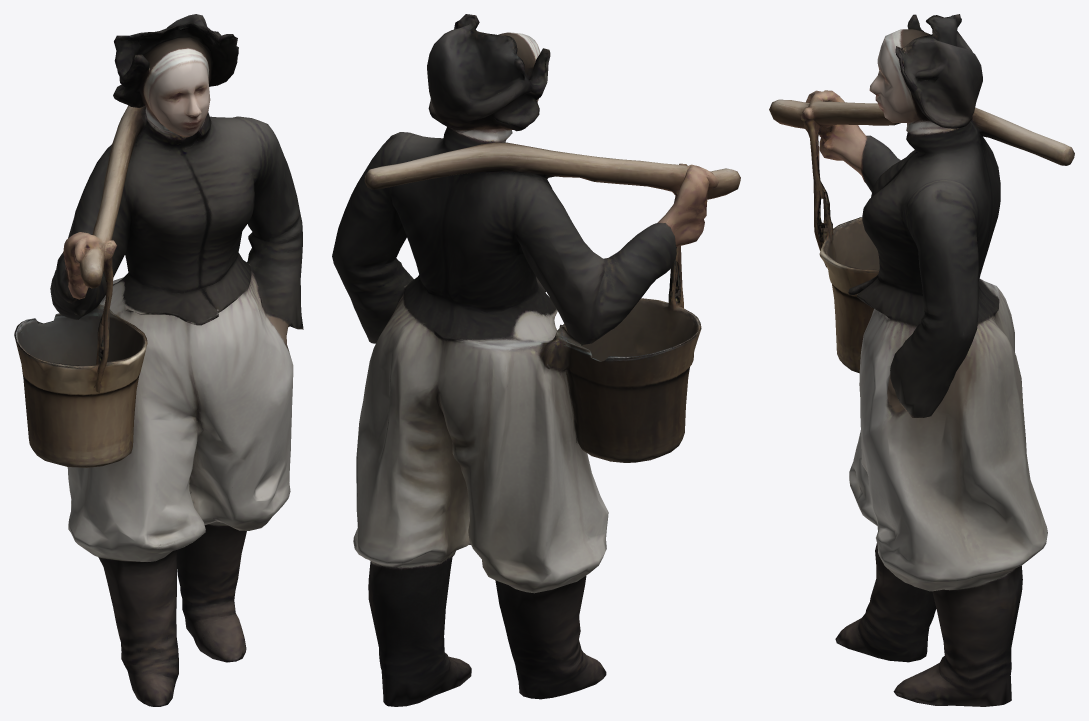
The model's file is poppetje.glb.
The picture shows the model from 3 angles, left to right: view 1: azimuth 30°, elevation 25°; view 2: azimuth 150°, elevation 25°; view 3: azimuth 270°, elevation 25°; orthographic projection. The views are drawn at different scales.
Parts seen in each view (by area): view 1: geometry_0; view 2: geometry_0; view 3: geometry_0.
Boxes of the visible parts, box(x1,y1,x2,y2) form: geometry_0: box(14, 14, 303, 706); geometry_0: box(332, 14, 740, 706); geometry_0: box(769, 14, 1074, 706).
Size of the model in its own units: 0.5105 by 0.9992 by 0.4298.
Materials: 1 (1 with a texture image).
